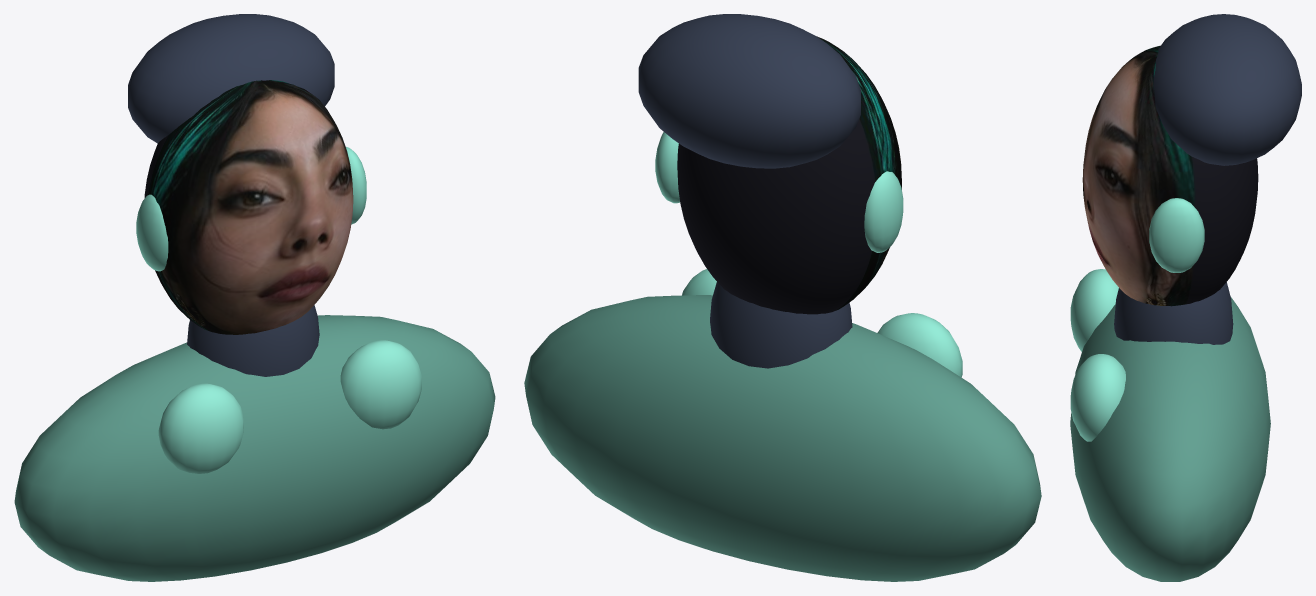
File: performer.glb
3 views of the same model, side by side, from view 1: azimuth 30°, elevation 25°; view 2: azimuth 150°, elevation 25°; view 3: azimuth 270°, elevation 25° (orthographic). The views are drawn at different scales.
Bounding box in the file's own units: 1.69 × 1.7 × 0.7386.
4 materials, 1 textured.
